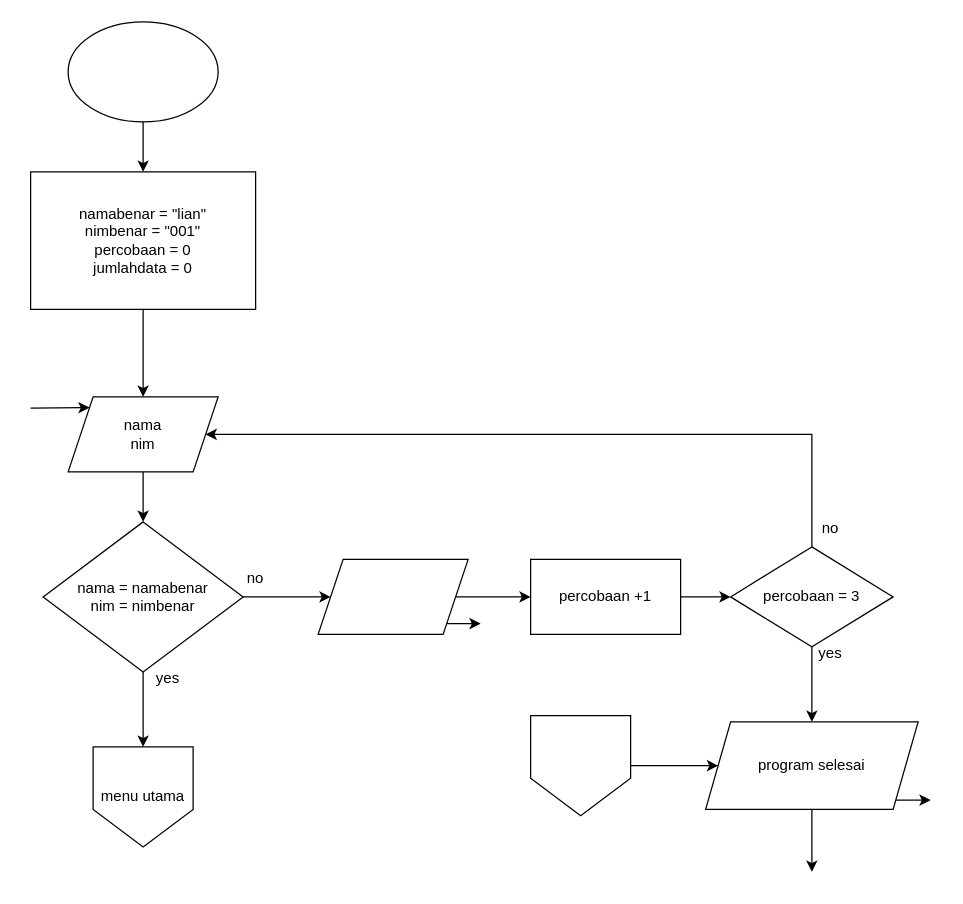
Image size: 963x904. Some labels were removed from this diagram. Each missing label, with the centre of its shape:
keluar: [580,765]
silahkan coba lagi: [392,596]
start: [142,71]
